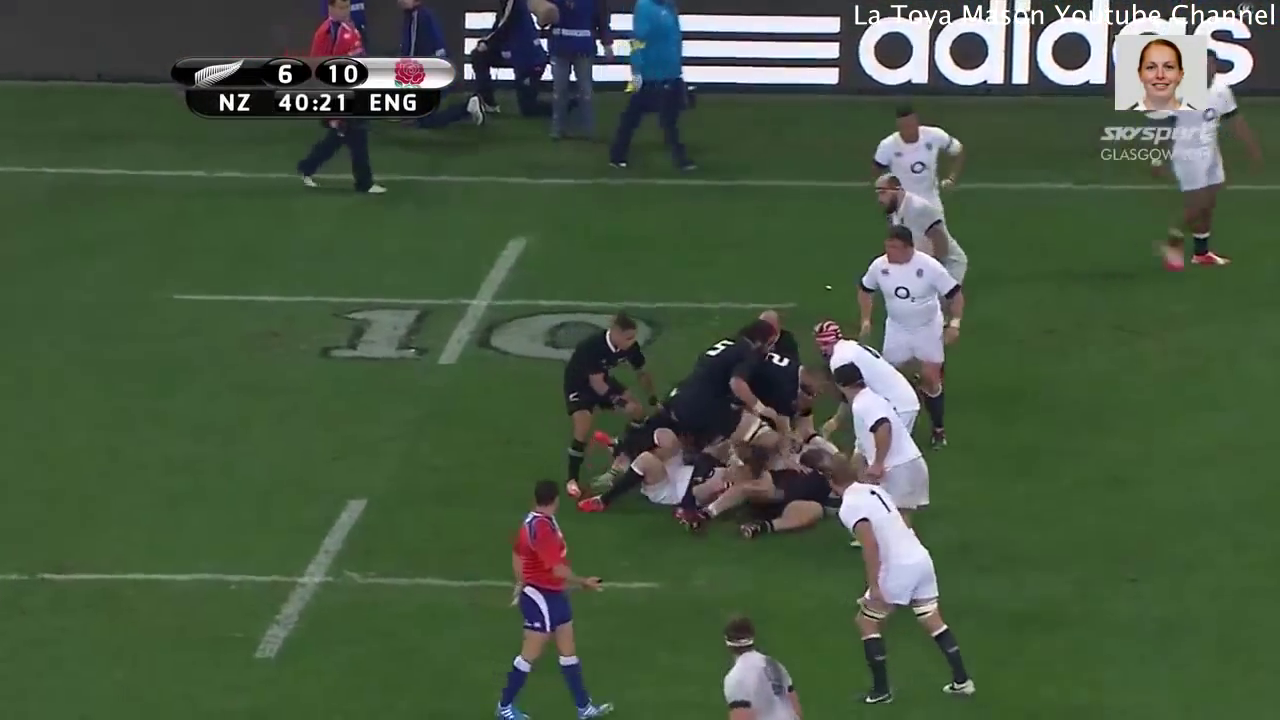10_metre: (1, 483, 669, 672), (163, 230, 811, 388)
player: (813, 453, 987, 704), (477, 466, 626, 720), (845, 221, 965, 452), (831, 353, 952, 543), (665, 314, 780, 512), (1141, 54, 1244, 273), (545, 309, 661, 496), (856, 167, 1002, 310), (817, 298, 938, 454), (704, 605, 811, 720), (870, 104, 974, 215)
ruck: (563, 298, 867, 537)
